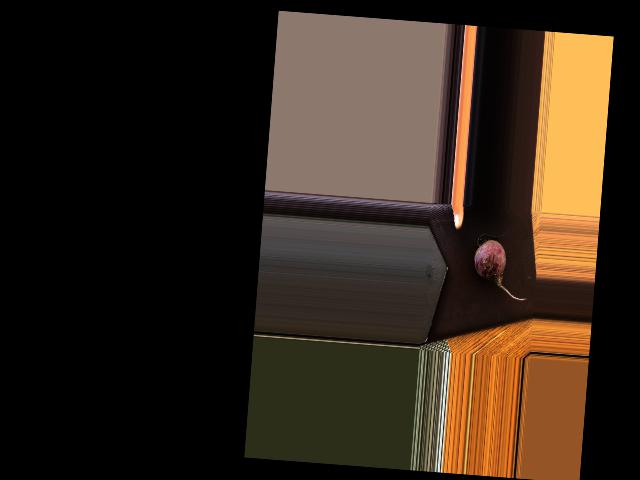beet: (471, 228, 531, 301)
